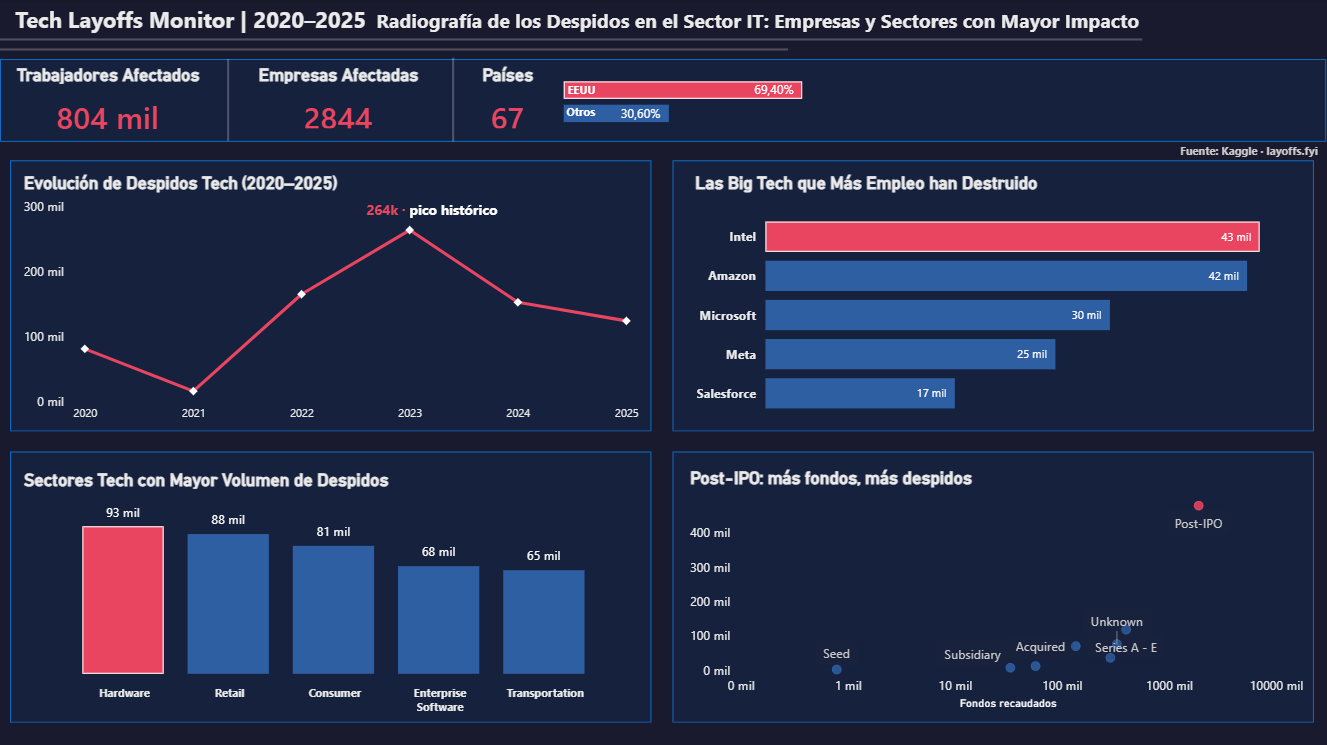

What the dashboard file says about the page in this screenshot:
{"tool":"powerbi","page":{"name":"Dashboard","canvas":[1280,720],"ordinal":0},"visuals":[{"type":"shape","box":[10,155.3,619.1,261.8],"z":0},{"type":"textbox","box":[9.7,0,376.4,45.8],"z":1000},{"type":"shape","box":[0,58,1280,80],"z":2000},{"type":"textbox","box":[357.8,4,862.5,38],"z":3000},{"type":"lineChart","title":"Evolución de Despidos Tech (2020–2025)","fields":{"Y":["Sum(layoffs.despidos)"],"Category":["layoffs.fecha.Variación.Jerarquía de fechas.Año"]},"box":[18,167.9,603.6,248.9],"z":4000},{"type":"textbox","box":[348.8,188.9,137.9,30],"z":5000},{"type":"shape","box":[649,155.3,619.1,261.8],"z":6000},{"type":"shape","box":[649,437.1,619.1,261.8],"z":7000},{"type":"shape","box":[10,437.1,619.1,261.8],"z":8000},{"type":"cardVisual","title":"Trabajadores Afectados","fields":{"Data":["Sum(layoffs.despidos)"]},"box":[0,63,208.9,81],"z":9000},{"type":"cardVisual","title":"Empresas Afectadas","fields":{"Data":["Count(layoffs.Empresa)"]},"box":[241.9,63,170.9,80],"z":10000},{"type":"cardVisual","title":"Países","fields":{"Data":["Count(layoffs.País)"]},"box":[418.8,63,142.9,80],"z":11000},{"type":"clusteredBarChart","title":"Las Big Tech que Más Empleo han Destruido","fields":{"Category":["layoffs.Empresa"],"Y":["Sum(layoffs.despidos)"]},"box":[665.6,167.9,590.7,248.9],"z":12000},{"type":"textbox","box":[1134.3,130.9,144.9,29],"z":13000},{"type":"clusteredColumnChart","title":"Sectores Tech con Mayor Volumen de Despidos","fields":{"Y":["Sum(layoffs.despidos)"],"Category":["layoffs.Industria"]},"box":[18,453.7,594.7,244.9],"z":14000},{"type":"scatterChart","title":"Post-IPO: más fondos, más despidos","fields":{"Category":["layoffs.Personalizado"],"Y":["Sum(layoffs.despidos)"],"X":["Sum(layoffs.Fondos recaudados)"]},"box":[660.6,452.7,601.6,238.9],"z":15000},{"type":"barChart","title":"Despidos por país","fields":{"Category":["layoffs.Personalizado.1"],"Y":["Divide(Sum(layoffs.despidos), ScopedEval(Sum(layoffs.despidos), []))"]},"box":[538.7,55,284.8,81],"z":16000},{"type":"textbox","box":[542.7,72,57,38],"z":17000},{"type":"textbox","box":[541.7,93.9,57,38],"z":18000},{"type":"shape","box":[0,33,1102.4,13],"z":19000},{"type":"shape","box":[0,42,760.6,13],"z":20000},{"type":"shape","box":[384.8,57,104.9,81],"z":21000},{"type":"shape","box":[167.9,58,104.9,79],"z":22000}]}

Visuals, with their boxes in screenshot pixels (x1, y1, x2, y2), scaled from the page's 1280x720 canvas onto the 1327x745 screenshot:
shape: 10:161:652:432
textbox: 10:0:400:47
shape: 0:60:1326:143
textbox: 371:4:1265:43
"Evolución de Despidos Tech (2020–2025)" lineChart: 19:174:644:431
textbox: 362:195:505:227
shape: 673:161:1315:432
shape: 673:452:1315:723
shape: 10:452:652:723
"Trabajadores Afectados" cardVisual: 0:65:217:149
"Empresas Afectadas" cardVisual: 251:65:428:148
"Países" cardVisual: 434:65:582:148
"Las Big Tech que Más Empleo han Destruido" clusteredBarChart: 690:174:1302:431
textbox: 1176:135:1326:165
"Sectores Tech con Mayor Volumen de Despidos" clusteredColumnChart: 19:469:635:723
"Post-IPO: más fondos, más despidos" scatterChart: 685:468:1309:716
"Despidos por país" barChart: 558:57:854:141
textbox: 563:74:622:114
textbox: 562:97:621:136
shape: 0:34:1143:48
shape: 0:43:789:57
shape: 399:59:508:143
shape: 174:60:283:142
